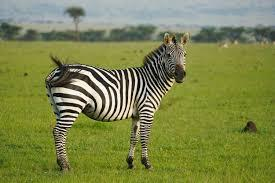Non_Gorille: (34, 18, 212, 174)
